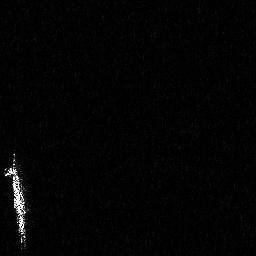ship: (2, 150, 31, 253)
